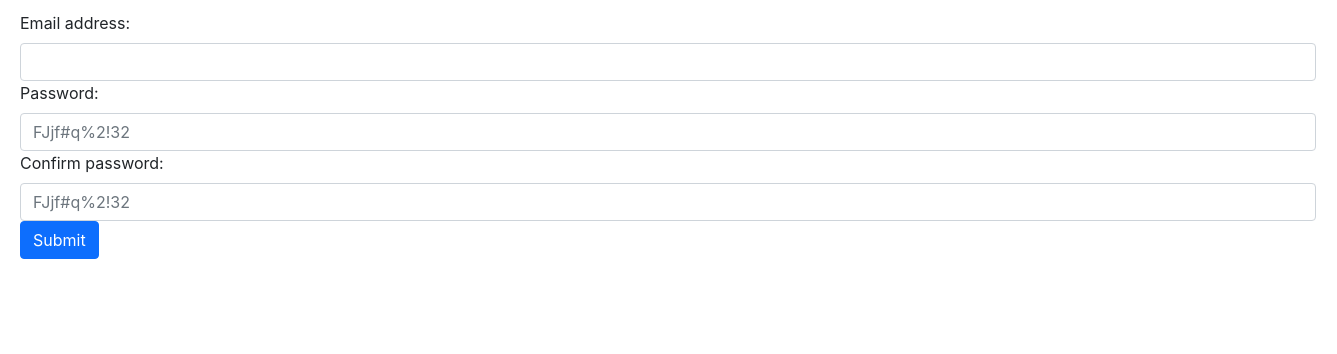
Test case: Error handling › Should show password error message if password is less than 5 characters
The width and height of the screenshot is (1337, 354).
Step 1. Type "azaz22155@gmail.com" into the field labelled "Email address:" → [668, 62], box 20,43 -> 1316,81
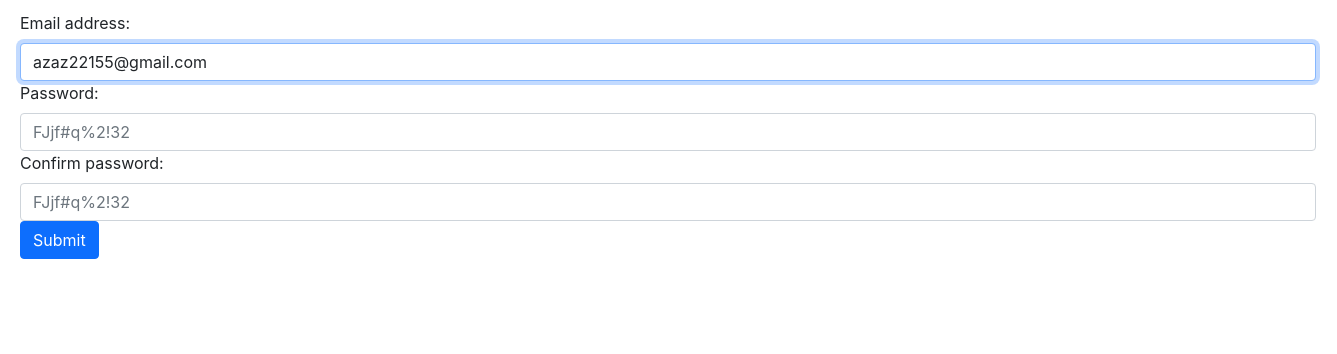
Step 2. Type "1234" into the password field labelled "Password:" → [668, 132], box 20,113 -> 1316,151
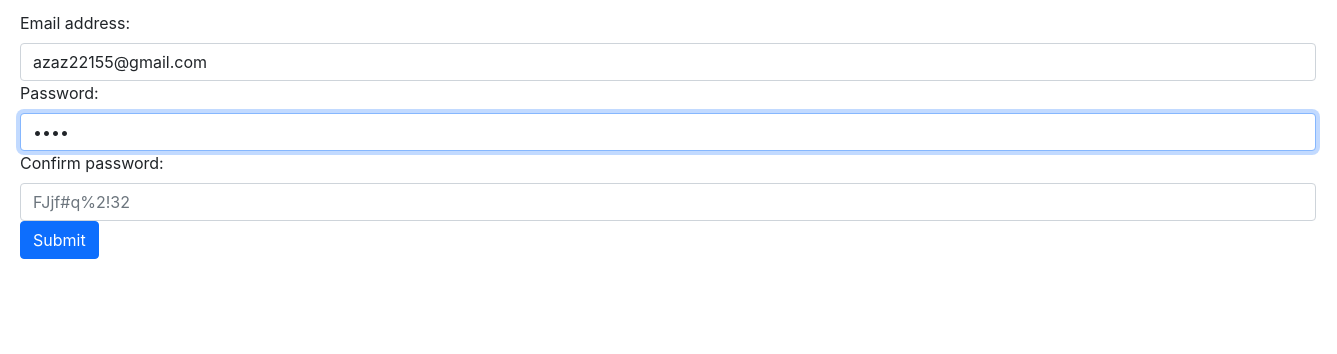
Step 3. Click the button "Submit" → [59, 240], box 20,221 -> 99,259
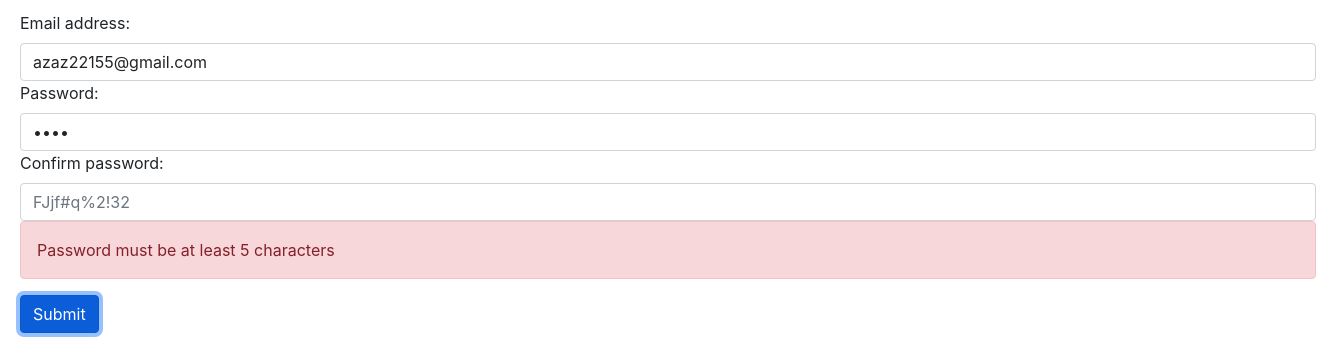
Now the text "Password must be at least 5 characters" is shown, box 20,221 -> 1316,279
